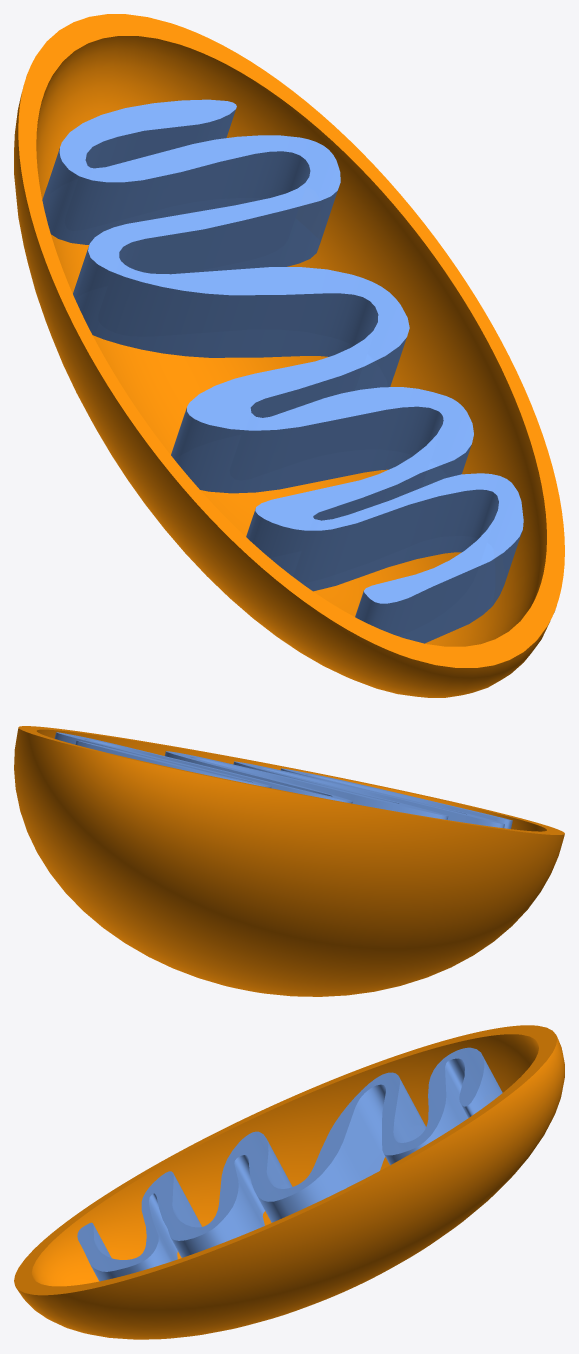
File: mitocondria.glb
The picture shows the model from 3 angles, top to bottom: view 1: azimuth 30°, elevation 25°; view 2: azimuth 150°, elevation 25°; view 3: azimuth 270°, elevation 25°; orthographic projection. The views are drawn at different scales.
Visible parts, largest first — view 1: Object_2; view 2: Object_2; view 3: Object_2.
Part boxes in pixels (box(x1,y1,x2,y2)): Object_2: box(14, 14, 564, 697); Object_2: box(14, 726, 564, 996); Object_2: box(14, 1025, 564, 1339).
Size of the model in its own units: 2.28 by 2.53 by 4.37.
